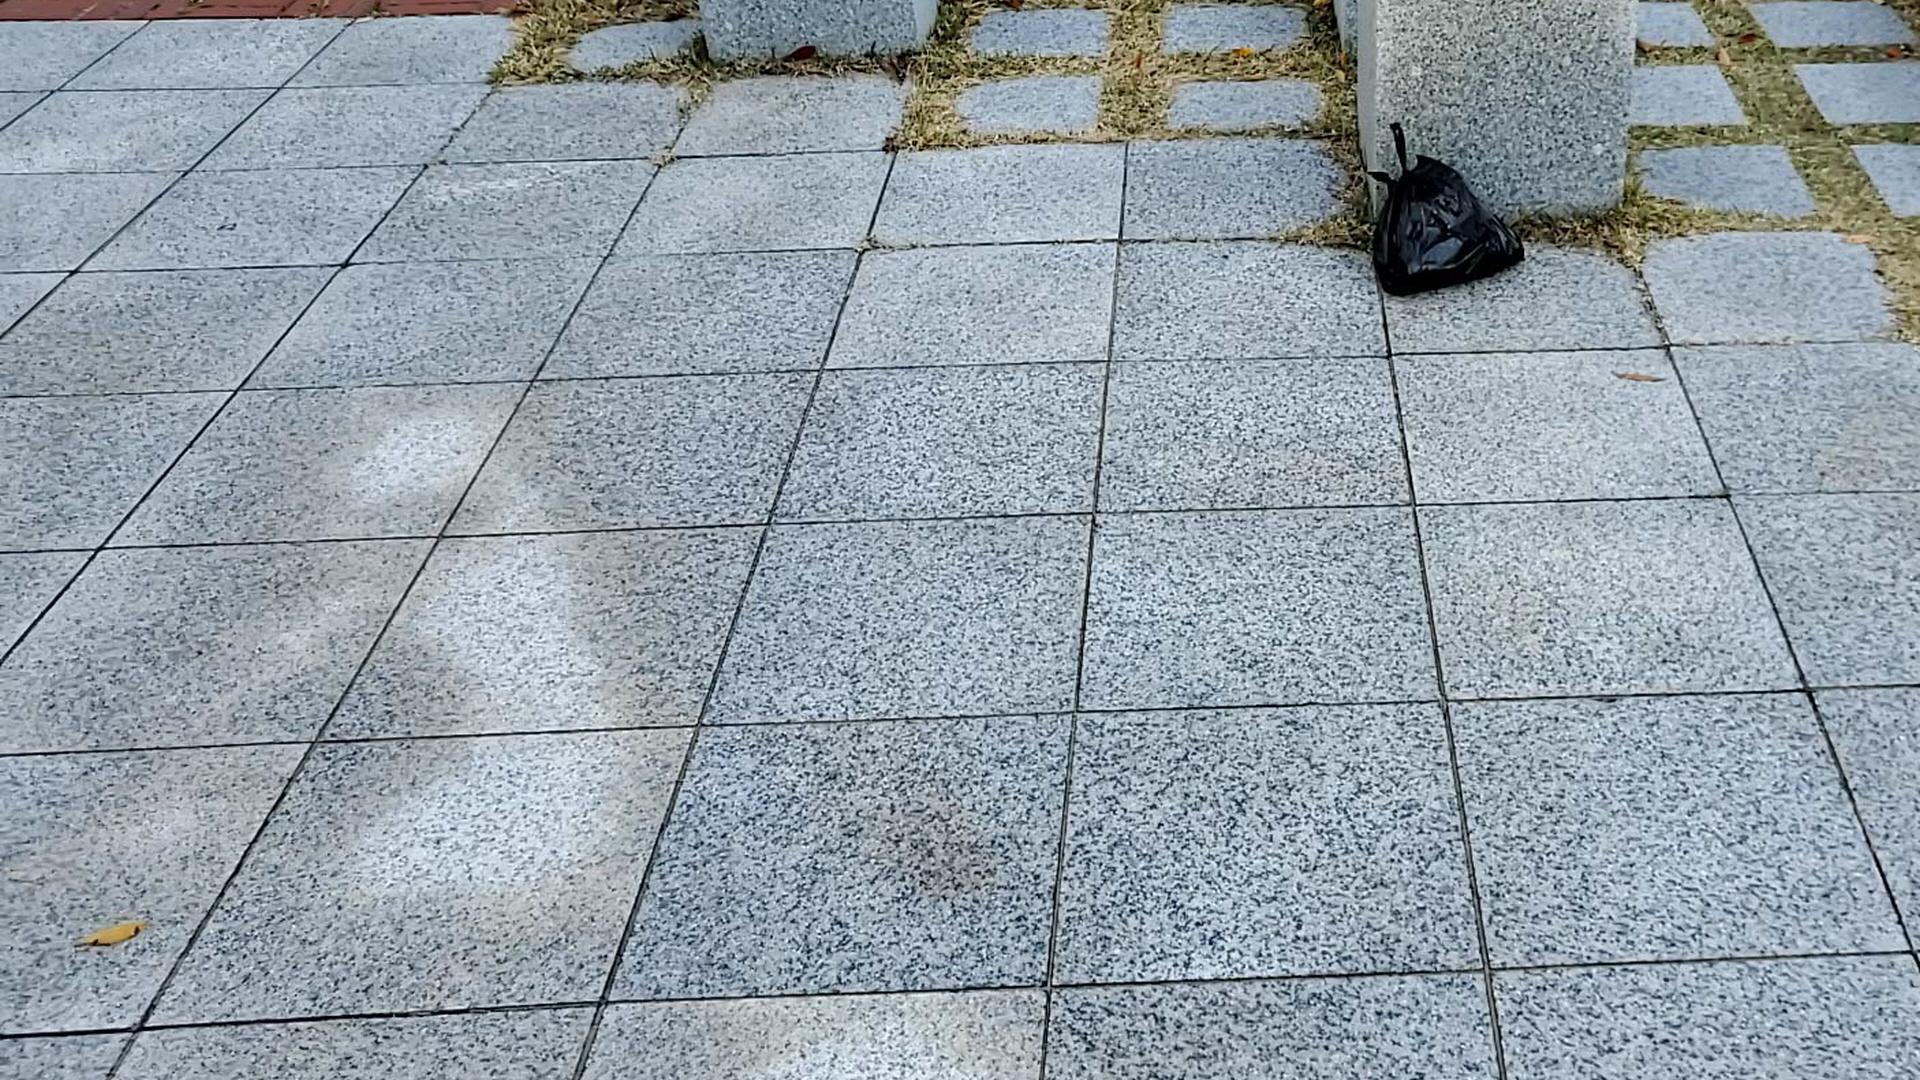black_bag: (1346, 113, 1534, 303)
